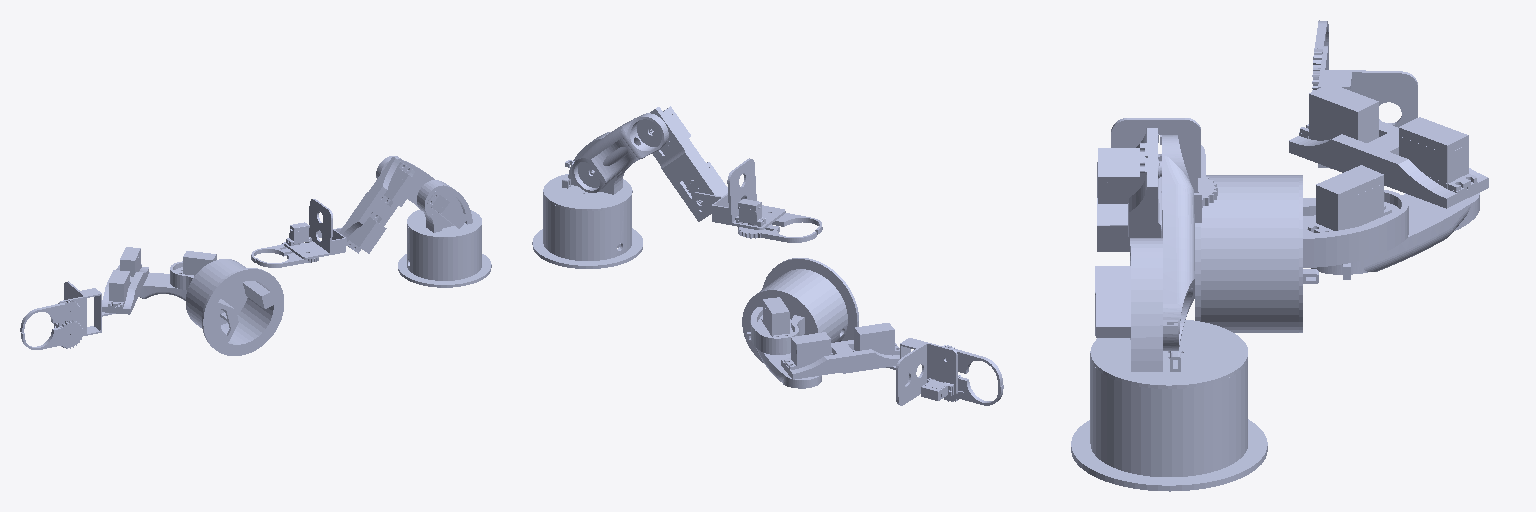
URDF robot description (urdf5):
<?xml version="1.0" encoding="utf-8"?>
<!-- This URDF was automatically created by SolidWorks to URDF Exporter! Originally created by [author] ([email redacted]) 
     Commit Version: 1.6.0-4-g7f85cfe  Build Version: 1.6.7995.38578
     For more information, please see http://wiki.ros.org/sw_urdf_exporter -->
<robot
  name="urdf5">
  <link
    name="base">
    <inertial>
      <origin
        xyz="6.93889390390723E-18 -1.38777878078145E-17 0.04"
        rpy="0 0 0" />
      <mass
        value="0.15707963267949" />
      <inertia
        ixx="0.000391062835524979"
        ixy="1.32161094801461E-35"
        ixz="3.61400724161835E-20"
        iyy="0.000391062835524979"
        iyz="3.61400724161835E-20"
        izz="0.000614574062858503" />
    </inertial>
    <visual>
      <origin
        xyz="0 0 0"
        rpy="0 0 0" />
      <geometry>
        <mesh
          filename="package://urdf5/meshes/base.STL" />
      </geometry>
      <material
        name="">
        <color
          rgba="0.792156862745098 0.819607843137255 0.933333333333333 1" />
      </material>
    </visual>
    <collision>
      <origin
        xyz="0 0 0"
        rpy="0 0 0" />
      <geometry>
        <mesh
          filename="package://urdf5/meshes/base.STL" />
      </geometry>
    </collision>
  </link>
  <link
    name="link1">
    <inertial>
      <origin
        xyz="0.00277146259730909 -0.00097761704275337 0.0245228000881184"
        rpy="0 0 0" />
      <mass
        value="0.103925846321559" />
      <inertia
        ixx="8.06918285332134E-05"
        ixy="2.30972043285665E-07"
        ixz="-1.91801149689529E-06"
        iyy="7.30134500767622E-05"
        iyz="2.74033821025776E-07"
        izz="0.000130206094156465" />
    </inertial>
    <visual>
      <origin
        xyz="0 0 0"
        rpy="0 0 0" />
      <geometry>
        <mesh
          filename="package://urdf5/meshes/link1.STL" />
      </geometry>
      <material
        name="">
        <color
          rgba="0.792156862745098 0.819607843137255 0.933333333333333 1" />
      </material>
    </visual>
    <collision>
      <origin
        xyz="0 0 0"
        rpy="0 0 0" />
      <geometry>
        <mesh
          filename="package://urdf5/meshes/link1.STL" />
      </geometry>
    </collision>
  </link>
  <joint
    name="joint1"
    type="revolute">
    <origin
      xyz="0 0 0.08"
      rpy="0 0 0" />
    <parent
      link="base" />
    <child
      link="link1" />
    <axis
      xyz="0 0 1" />
    <limit
      lower="-3.14"
      upper="3.14"
      effort="2.5"
      velocity="5.7596" />
  </joint>
  <link
    name="link2">
    <inertial>
      <origin
        xyz="0.0569882814444439 0.000962278892515128 -0.0815648422319132"
        rpy="0 0 0" />
      <mass
        value="0.0258099114254627" />
      <inertia
        ixx="1.44174546985462E-05"
        ixy="-1.60169567283109E-07"
        ixz="-4.54670826488016E-21"
        iyy="2.38661985609183E-05"
        iyz="1.26655593502753E-21"
        izz="1.12484016319642E-05" />
    </inertial>
    <visual>
      <origin
        xyz="0 0 0"
        rpy="0 0 0" />
      <geometry>
        <mesh
          filename="package://urdf5/meshes/link2.STL" />
      </geometry>
      <material
        name="">
        <color
          rgba="0.792156862745098 0.819607843137255 0.933333333333333 1" />
      </material>
    </visual>
    <collision>
      <origin
        xyz="0 0 0"
        rpy="0 0 0" />
      <geometry>
        <mesh
          filename="package://urdf5/meshes/link2.STL" />
      </geometry>
    </collision>
  </link>
  <joint
    name="joint2"
    type="revolute">
    <origin
      xyz="0.014245 -0.081565 0.063245"
      rpy="1.5708 0 0" />
    <parent
      link="link1" />
    <child
      link="link2" />
    <axis
      xyz="0 0 -1" />
    <limit
      lower="-3.14"
      upper="3.14"
      effort="2.5"
      velocity="5.7596" />
  </joint>
  <link
    name="link3">
    <inertial>
      <origin
        xyz="0.0462043522363444 -0.000810581763271395 -0.0830187996798989"
        rpy="0 0 0" />
      <mass
        value="0.0698780274239912" />
      <inertia
        ixx="2.44616455959098E-05"
        ixy="-6.95937887884127E-08"
        ixz="-3.57165400211965E-07"
        iyy="4.70197933893477E-05"
        iyz="2.95887691146717E-08"
        izz="2.75333599271165E-05" />
    </inertial>
    <visual>
      <origin
        xyz="0 0 0"
        rpy="0 0 0" />
      <geometry>
        <mesh
          filename="package://urdf5/meshes/link3.STL" />
      </geometry>
      <material
        name="">
        <color
          rgba="0.792156862745098 0.819607843137255 0.933333333333333 1" />
      </material>
    </visual>
    <collision>
      <origin
        xyz="0 0 0"
        rpy="0 0 0" />
      <geometry>
        <mesh
          filename="package://urdf5/meshes/link3.STL" />
      </geometry>
    </collision>
  </link>
  <joint
    name="joint3"
    type="revolute">
    <origin
      xyz="0.11398 0.0019281 0"
      rpy="0 0 0" />
    <parent
      link="link2" />
    <child
      link="link3" />
    <axis
      xyz="0 0 -1" />
    <limit
      lower="-3.14"
      upper="3.14"
      effort="2.5"
      velocity="5.7596" />
  </joint>
  <link
    name="link4">
    <inertial>
      <origin
        xyz="0.031487 -0.0019171 -0.080734"
        rpy="0 0 0" />
      <mass
        value="0.077083" />
      <inertia
        ixx="1.816E-05"
        ixy="-2.872E-06"
        ixz="-4.2892E-07"
        iyy="3.6466E-05"
        iyz="5.4003E-08"
        izz="3.3578E-05" />
    </inertial>
    <visual>
      <origin
        xyz="0 0 0"
        rpy="0 0 0" />
      <geometry>
        <mesh
          filename="package://urdf5/meshes/link4.STL" />
      </geometry>
      <material
        name="">
        <color
          rgba="0.79216 0.81961 0.93333 1" />
      </material>
    </visual>
    <collision>
      <origin
        xyz="0 0 0"
        rpy="0 0 0" />
      <geometry>
        <mesh
          filename="package://urdf5/meshes/link4.STL" />
      </geometry>
    </collision>
  </link>
  <joint
    name="joint4"
    type="revolute">
    <origin
      xyz="0.16414 0.00039551 0"
      rpy="0 0 0" />
    <parent
      link="link3" />
    <child
      link="link4" />
    <axis
      xyz="0 0 -1" />
    <limit
      lower="-3.14"
      upper="3.14"
      effort="2.5"
      velocity="5.7596" />
  </joint>
  <link
    name="gripkanan">
    <inertial>
      <origin
        xyz="0.014053 -0.00074224 0.12137"
        rpy="0 0 0" />
      <mass
        value="0.0046823" />
      <inertia
        ixx="2.3567E-07"
        ixy="2.3541E-08"
        ixz="2.4169E-22"
        iyy="2.0678E-06"
        iyz="6.8922E-24"
        izz="2.291E-06" />
    </inertial>
    <visual>
      <origin
        xyz="0 0 0"
        rpy="0 0 0" />
      <geometry>
        <mesh
          filename="package://urdf5/meshes/gripkanan.STL" />
      </geometry>
      <material
        name="">
        <color
          rgba="0.79216 0.81961 0.93333 1" />
      </material>
    </visual>
    <collision>
      <origin
        xyz="0 0 0"
        rpy="0 0 0" />
      <geometry>
        <mesh
          filename="package://urdf5/meshes/gripkanan.STL" />
      </geometry>
    </collision>
  </link>
  <joint
    name="ggripkanan"
    type="revolute">
    <origin
      xyz="0.083475 -0.14557 -0.062915"
      rpy="-1.5708 0 0" />
    <parent
      link="link4" />
    <child
      link="gripkanan" />
    <axis
      xyz="0 0 1" />
    <limit
      lower="-3.14"
      upper="3.14"
      effort="0.21575"
      velocity="10.47" />
  </joint>
  <link
    name="endkanan">
    <inertial>
      <origin
        xyz="-0.279008835760687 -0.017317801262114 0.097407261122945"
        rpy="0 0 0" />
      <mass
        value="0.443141170884827" />
      <inertia
        ixx="0.00150079390938389"
        ixy="1.44638395046672E-05"
        ixz="-0.00191993821360237"
        iyy="0.00931326859297631"
        iyz="2.43274301975088E-06"
        izz="0.00867139377566227" />
    </inertial>
    <visual>
      <origin
        xyz="0 0 0"
        rpy="0 0 0" />
      <geometry>
        <mesh
          filename="package://urdf5/meshes/endkanan.STL" />
      </geometry>
      <material
        name="">
        <color
          rgba="1 1 1 1" />
      </material>
    </visual>
    <collision>
      <origin
        xyz="0 0 0"
        rpy="0 0 0" />
      <geometry>
        <mesh
          filename="package://urdf5/meshes/endkanan.STL" />
      </geometry>
    </collision>
  </link>
  <joint
    name="endkanan"
    type="fixed">
    <origin
      xyz="5E-05 0.0358 0"
      rpy="0 0 0" />
    <parent
      link="gripkanan" />
    <child
      link="endkanan" />
    <axis
      xyz="0 0 0" />
  </joint>
  <link
    name="gripkiri">
    <inertial>
      <origin
        xyz="0.014073 3.9979E-05 0.12137"
        rpy="0 0 0" />
      <mass
        value="0.0046823" />
      <inertia
        ixx="2.3789E-07"
        ixy="6.7899E-08"
        ixz="-1.2013E-24"
        iyy="2.0656E-06"
        iyz="1.9907E-23"
        izz="2.291E-06" />
    </inertial>
    <visual>
      <origin
        xyz="0 0 0"
        rpy="0 0 0" />
      <geometry>
        <mesh
          filename="package://urdf5/meshes/gripkiri.STL" />
      </geometry>
      <material
        name="">
        <color
          rgba="0.79216 0.81961 0.93333 1" />
      </material>
    </visual>
    <collision>
      <origin
        xyz="0 0 0"
        rpy="0 0 0" />
      <geometry>
        <mesh
          filename="package://urdf5/meshes/gripkiri.STL" />
      </geometry>
    </collision>
  </link>
  <joint
    name="ggripkiri"
    type="revolute">
    <origin
      xyz="0.083525 -0.14557 -0.098715"
      rpy="-1.5708 0 0" />
    <parent
      link="link4" />
    <child
      link="gripkiri" />
    <axis
      xyz="0 0 1" />
    <limit
      lower="-3.14"
      upper="3.14"
      effort="0.21575"
      velocity="0" />
  </joint>
  <link
    name="endkiri">
    <inertial>
      <origin
        xyz="-0.050616 0.017255 0.12137"
        rpy="0 0 0" />
      <mass
        value="0.0046823" />
      <inertia
        ixx="2.3789E-07"
        ixy="6.7899E-08"
        ixz="4.2253E-22"
        iyy="2.0656E-06"
        iyz="-5.7352E-23"
        izz="2.291E-06" />
    </inertial>
    <visual>
      <origin
        xyz="0 0 0"
        rpy="0 0 0" />
      <geometry>
        <mesh
          filename="package://urdf5/meshes/endkiri.STL" />
      </geometry>
      <material
        name="">
        <color
          rgba="0.79216 0.81961 0.93333 1" />
      </material>
    </visual>
    <collision>
      <origin
        xyz="0 0 0"
        rpy="0 0 0" />
      <geometry>
        <mesh
          filename="package://urdf5/meshes/endkiri.STL" />
      </geometry>
    </collision>
  </link>
  <joint
    name="endkiri"
    type="fixed">
    <origin
      xyz="0.0646888422315626 -0.0172149263936856 0"
      rpy="0 0 0" />
    <parent
      link="gripkiri" />
    <child
      link="endkiri" />
    <axis
      xyz="0 0 0" />
  </joint>
</robot>

--- Facts derived from the render (not from the file) ---
Views: 3 orthographic renders of the robot side by side, from view 1: azimuth 30°, elevation 25°; view 2: azimuth 150°, elevation 25°; view 3: azimuth 270°, elevation 25°.
Robot: urdf5 — 9 links, 8 joints (6 revolute, 2 fixed); root link base; default pose: all joints at 0.
Visible links, largest first — view 1: link4, link1; view 2: link4, link1; view 3: link4, link1.
Boxes of the visible links, bbox=[...] form: link4: bbox=[251, 156, 491, 287]; link1: bbox=[20, 247, 283, 355]; link4: bbox=[532, 106, 822, 268]; link1: bbox=[742, 258, 1003, 405]; link4: bbox=[1071, 118, 1267, 491]; link1: bbox=[1195, 20, 1488, 332].
Size in the robot's own frame: 0.6413 by 0.2592 by 0.2457 metres.
Meshes: 9 distinct files referenced, 2 mesh visuals loaded (2 binary STL); not drawn: 7 (reference not matched to a file when rendering).